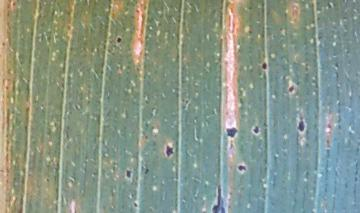tarspot: (208, 181, 232, 213), (222, 125, 241, 140), (162, 143, 176, 160), (295, 118, 308, 135), (122, 166, 136, 181), (250, 122, 262, 137), (234, 163, 249, 174), (257, 60, 271, 71), (285, 83, 297, 95), (113, 35, 125, 45)
